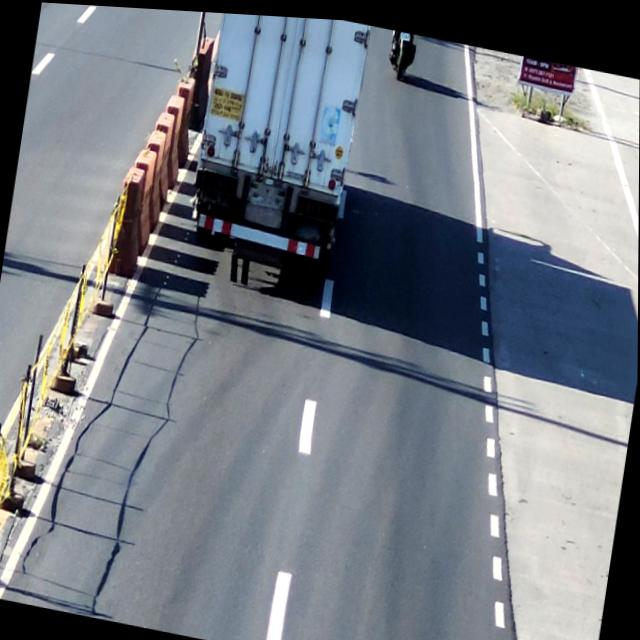Truck: (181, 9, 374, 280)
